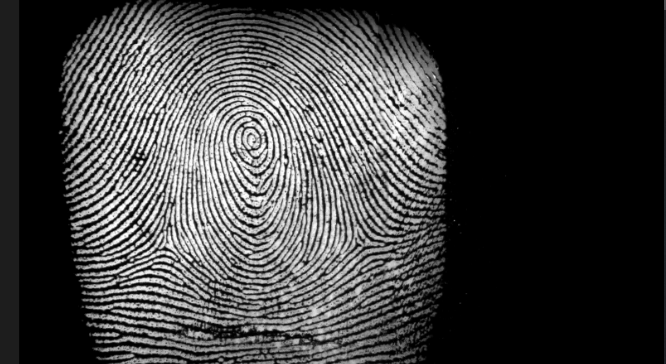nucelo: (235, 117, 270, 160)
verticilo: (335, 223, 388, 257), (152, 226, 179, 257)
